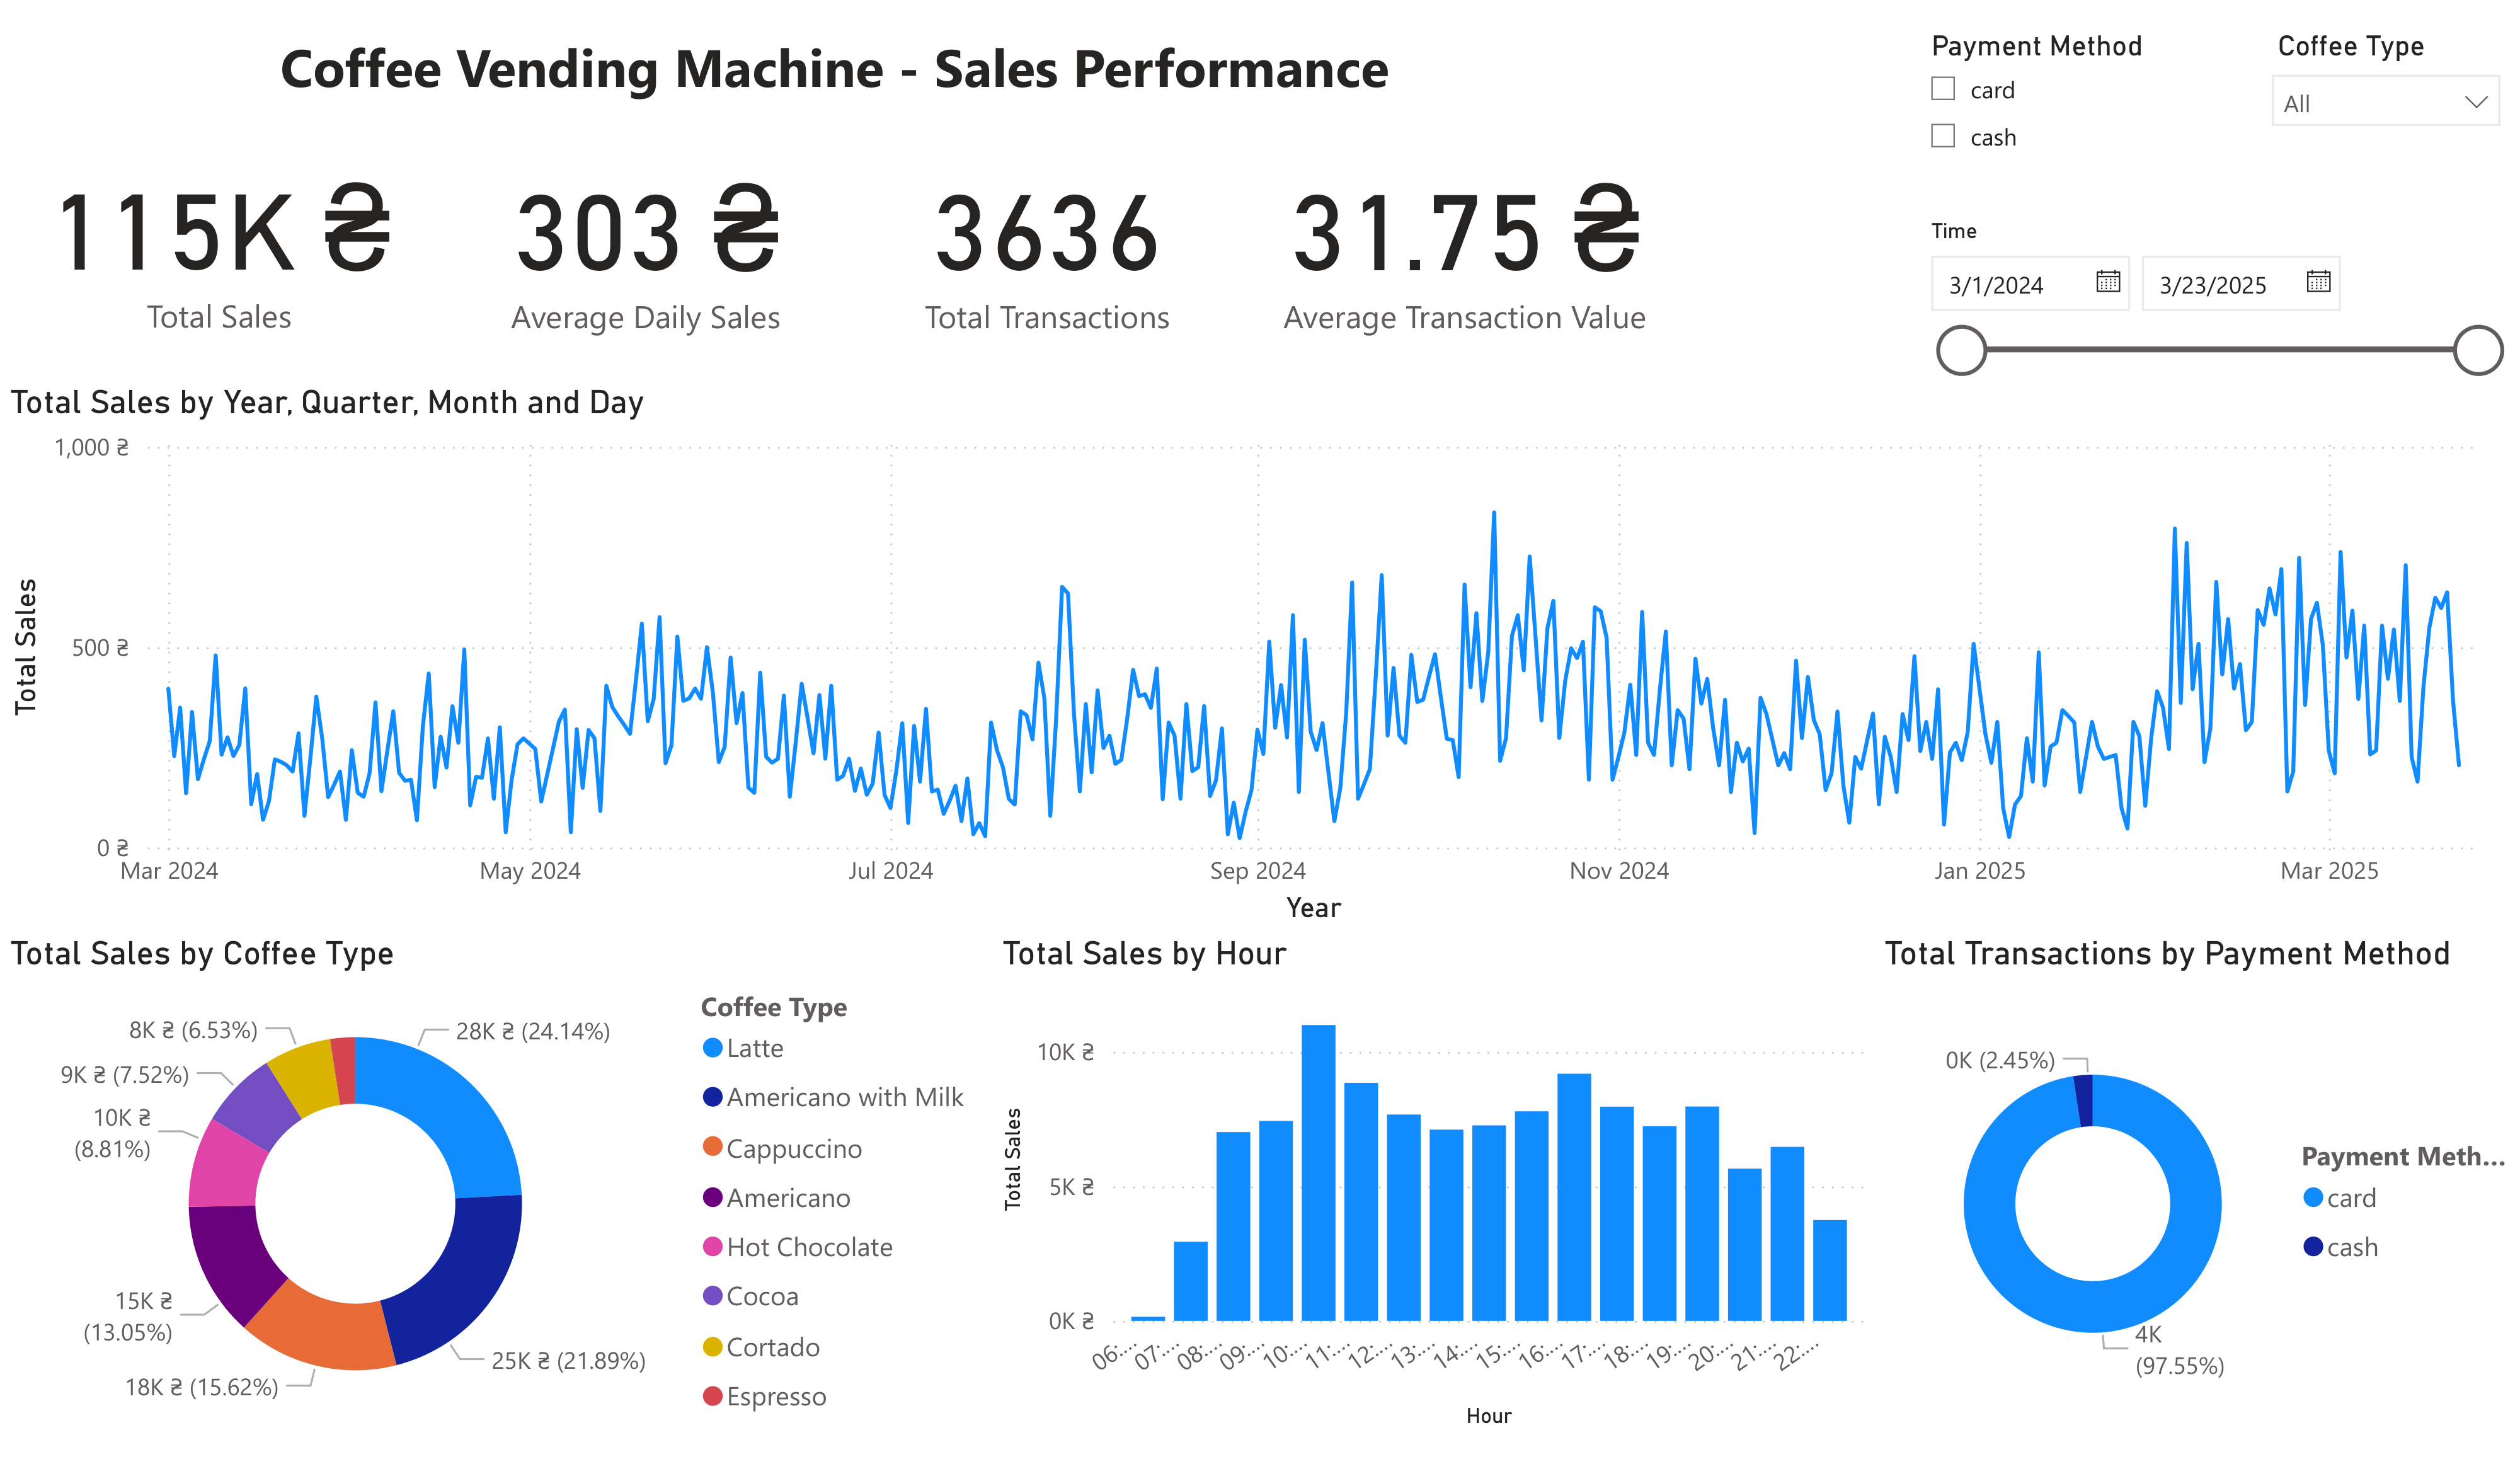

The page's visual inventory and layout, read from the dashboard file:
{"tool":"powerbi","page":{"name":"Page 1","canvas":[1280,720],"ordinal":0},"visuals":[{"type":"card","fields":{"Values":["coffee_sales.Total Sales"]},"box":[0.4,55.1,222.5,111.3],"z":0},{"type":"lineChart","fields":{"Category":["coffee_sales.datetime.Variation.Date Hierarchy.Year","coffee_sales.datetime.Variation.Date Hierarchy.Quarter","coffee_sales.datetime.Variation.Date Hierarchy.Month","coffee_sales.datetime.Variation.Date Hierarchy.Day"],"Y":["coffee_sales.Total Sales"]},"box":[0,184,1280,280],"z":1000},{"type":"donutChart","fields":{"Category":["coffee_sales.Payment Method"],"Y":["coffee_sales.Total Transactions"]},"box":[952,464,328,256],"z":2000},{"type":"columnChart","fields":{"Category":["coffee_sales.Coffee Type"],"Y":["coffee_sales.Total Sales"]},"box":[0,464,504,256],"z":3000},{"type":"columnChart","fields":{"Y":["coffee_sales.Total Sales"],"Category":["coffee_sales.Hour Formatted"]},"box":[504,464,448,256],"z":4000},{"type":"slicer","fields":{"Values":["coffee_sales.Coffee Type"]},"box":[1144,0,136,80],"z":5000},{"type":"textbox","box":[0.4,-0.5,639.7,56.7],"z":6000},{"type":"slicer","fields":{"Values":["coffee_sales.datetime"]},"box":[968,96,312,88],"z":7000},{"type":"card","fields":{"Values":["coffee_sales.Transaction Count"]},"box":[219.8,55.1,212.2,111.3],"z":8000},{"type":"card","fields":{"Values":["coffee_sales.Avg Transaction Value"]},"box":[432,55.1,208.1,111.3],"z":9000},{"type":"slicer","fields":{"Values":["coffee_sales.Payment Method"]},"box":[968,0,168,80],"z":9001}]}

Visuals, with their boxes in screenshot pixels (x1, y1, x2, y2), scaled from the page's 1280x720 canvas onto the 2520x1457 screenshot:
card - coffee_sales.Total Sales: box=[1, 111, 439, 337]
lineChart - coffee_sales.datetime.Variation.Date Hierarchy.Year x coffee_sales.datetime.Variation.Date Hierarchy.Quarter: box=[0, 372, 2519, 939]
donutChart - coffee_sales.Payment Method x coffee_sales.Total Transactions: box=[1874, 939, 2519, 1456]
columnChart - coffee_sales.Coffee Type x coffee_sales.Total Sales: box=[0, 939, 992, 1456]
columnChart - coffee_sales.Total Sales x coffee_sales.Hour Formatted: box=[992, 939, 1874, 1456]
slicer - coffee_sales.Coffee Type: box=[2252, 0, 2519, 162]
textbox: box=[1, 0, 1260, 114]
slicer - coffee_sales.datetime: box=[1906, 194, 2519, 372]
card - coffee_sales.Transaction Count: box=[433, 111, 850, 337]
card - coffee_sales.Avg Transaction Value: box=[850, 111, 1260, 337]
slicer - coffee_sales.Payment Method: box=[1906, 0, 2236, 162]
